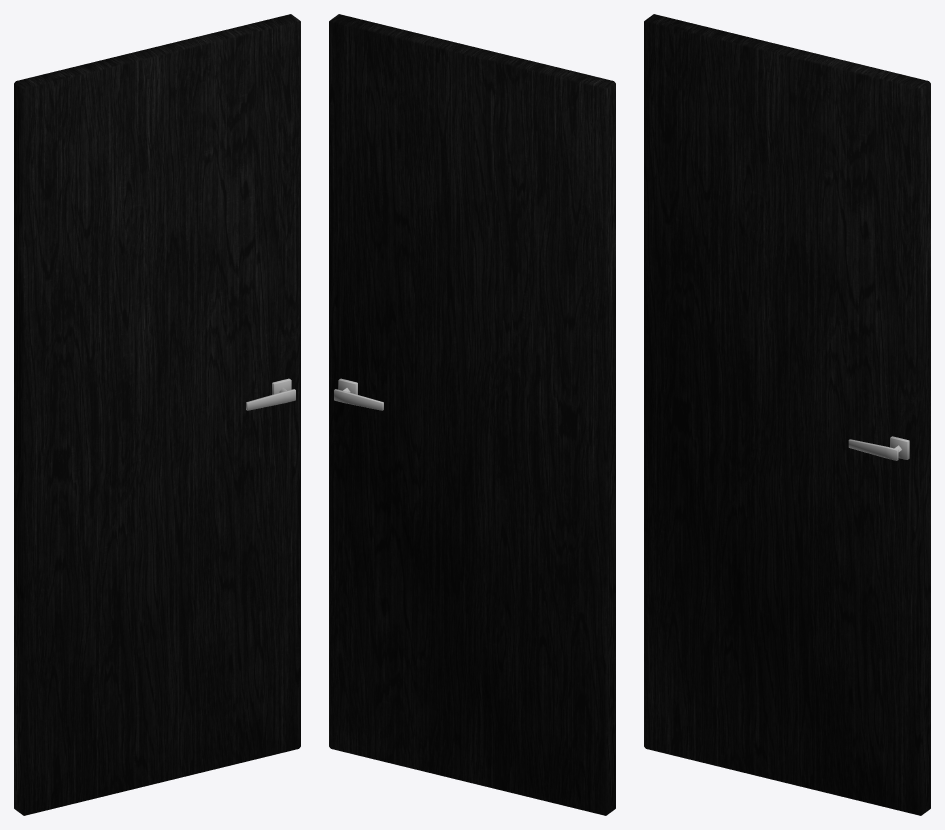
File: door_2.glb
The picture shows the model from 3 angles, left to right: view 1: azimuth 30°, elevation 25°; view 2: azimuth 150°, elevation 25°; view 3: azimuth 330°, elevation 25°; orthographic projection.
Visible parts, largest first — view 1: Door2_Door2_0; view 2: Door2_Door2_0; view 3: Door2_Door2_0.
Boxes of the visible parts, x1=… form: Door2_Door2_0: x1=14, y1=14, x2=300, y2=815; Door2_Door2_0: x1=329, y1=14, x2=615, y2=815; Door2_Door2_0: x1=644, y1=14, x2=930, y2=815.
Size of the model in its own units: 0.8 by 2 by 0.144.
1 material, 1 textured.
